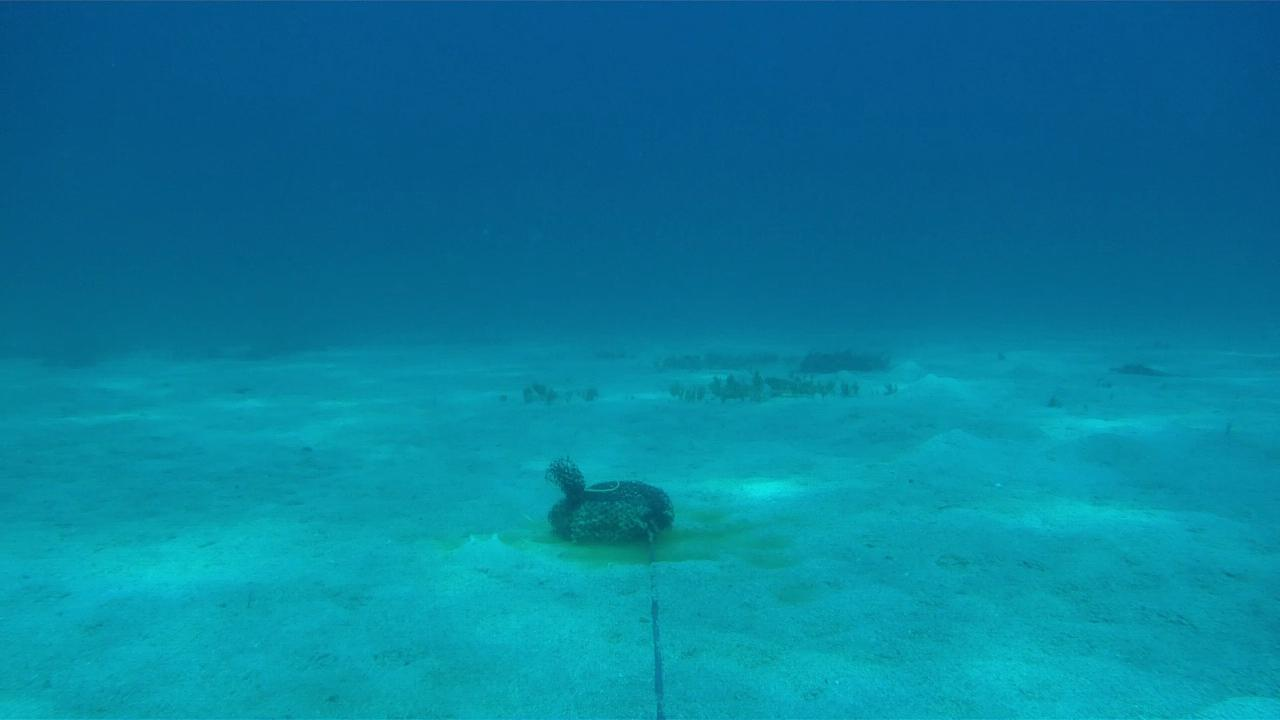bothus: (447, 528, 524, 582)
